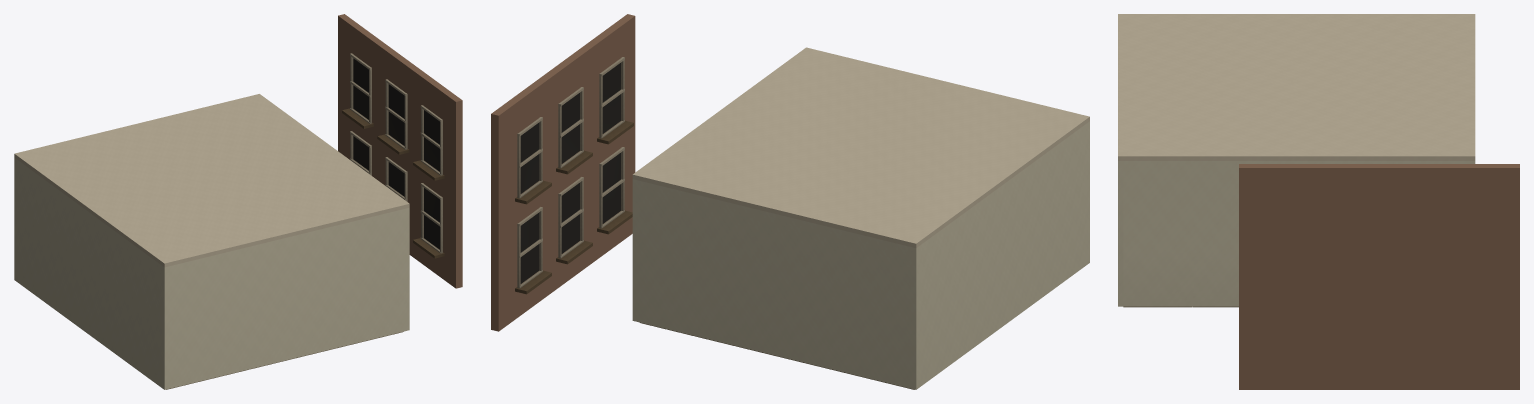
Rendered from household-routines-room.glb.
3 views of the same model, side by side, from view 1: azimuth 30°, elevation 25°; view 2: azimuth 150°, elevation 25°; view 3: azimuth 270°, elevation 25° (orthographic). The views are drawn at different scales.
Visible parts, largest first — view 1: Plaster, Ceiling, Brick, Recess, Trim, Walnut; view 2: Plaster, Ceiling, Brick, Recess, Trim, Walnut; view 3: Brick, Ceiling, Plaster.
Boxes of the visible parts, box(x1,y1,x2,y2) form: Plaster: box(14, 158, 409, 389); Ceiling: box(14, 94, 409, 267); Brick: box(338, 14, 462, 288); Recess: box(353, 58, 439, 249); Trim: box(350, 53, 442, 253); Walnut: box(342, 108, 444, 258); Plaster: box(632, 121, 1089, 389); Ceiling: box(632, 47, 1089, 247); Brick: box(491, 14, 635, 331); Recess: box(520, 63, 620, 283); Trim: box(517, 57, 624, 288); Walnut: box(515, 120, 633, 294); Brick: box(1239, 164, 1519, 389); Ceiling: box(1118, 14, 1475, 160); Plaster: box(1118, 161, 1475, 306).
Size of the model in its own units: 9.39 by 4.8 by 7.87.
Materials: 12 (8 with a texture image).
